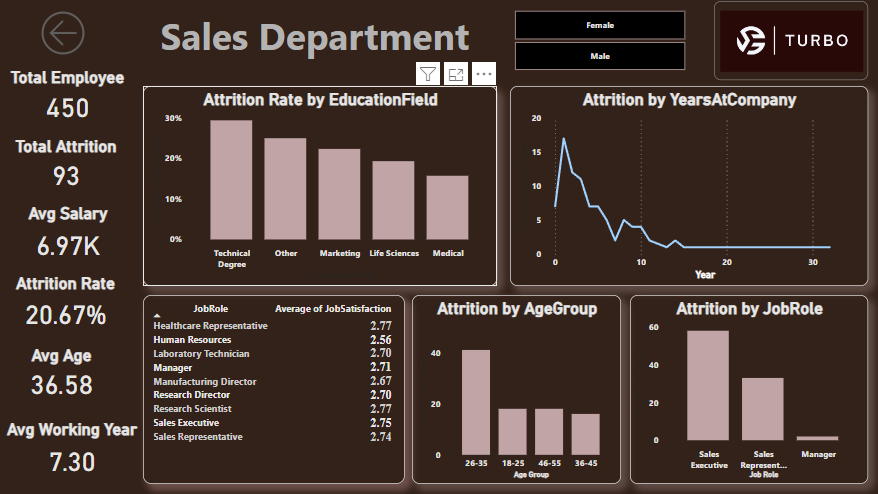

The dashboard page shown, as its layout file describes it:
{"tool":"powerbi","page":{"name":"Sales Department ","canvas":[1280,720],"ordinal":1},"visuals":[{"type":"image","box":[1033.9,7.2,221.8,113.8],"z":0},{"type":"card","title":"Avg Age","fields":{"Values":["HR_Analytics.Average Age Sales"]},"box":[13,504,162.7,77.8],"z":1000},{"type":"card","title":"Avg Salary","fields":{"Values":["HR_Analytics.Average Salary Sales"]},"box":[4.3,299.5,198.7,86.4],"z":2000},{"type":"card","title":"Attrition Rate","fields":{"Values":["HR_Analytics.Attrition Rate Sales"]},"box":[10.1,400.3,180,83.5],"z":3000},{"type":"card","title":"Avg Working Year","fields":{"Values":["HR_Analytics.Average Working Years Sales"]},"box":[7.2,610.6,204.5,86.4],"z":4000},{"type":"card","title":"Total Attrition","fields":{"Values":["HR_Analytics.Total Attrition Sales"]},"box":[7.2,203,187.2,77.8],"z":5000},{"type":"card","title":"Total Employee","fields":{"Values":["HR_Analytics.Total Employees Sales"]},"box":[4.3,103.7,197.3,80.6],"z":6000},{"type":"textbox","box":[211.7,14.4,509.8,99.4],"z":7000},{"type":"clusteredColumnChart","title":"Attrition Rate by EducationField","fields":{"Category":["HR_Analytics.EducationField"],"Y":["HR_Analytics.Attrition Rate Sales"]},"box":[211.7,129.6,509.8,288],"z":8000},{"type":"clusteredColumnChart","title":"Attrition by AgeGroup","fields":{"Category":["HR_Analytics.AgeGroup"],"Y":["HR_Analytics.Total Attrition Sales"]},"box":[599,430.6,301,272.2],"z":9000},{"type":"clusteredColumnChart","title":"Attrition by JobRole","fields":{"Category":["HR_Analytics.JobRole"],"Y":["HR_Analytics.Total Attrition Sales"]},"box":[913,430.6,342.7,272.2],"z":10000},{"type":"lineChart","title":"Attrition by YearsAtCompany","fields":{"Category":["HR_Analytics.YearsAtCompany"],"Y":["HR_Analytics.Total Attrition Sales"]},"box":[740.2,129.6,515.5,288],"z":11000},{"type":"pivotTable","fields":{"Rows":["HR_Analytics.JobRole"],"Values":["Avg(HR_Analytics.JobSatisfaction)"]},"box":[211.7,430.6,377.3,272.2],"z":12000},{"type":"slicer","fields":{"Values":["HR_Analytics.Gender"]},"box":[721.4,14.4,295.2,99.4],"z":13000},{"type":"actionButton","box":[57.6,14.4,90.7,77.8],"z":14000}]}

Visuals, with their boxes in screenshot pixels (x1, y1, x2, y2), scaled from the page's 1280x720 canvas onto the 878x494 screenshot:
image: [left=709, top=5, right=861, bottom=83]
"Avg Age" card: [left=9, top=346, right=121, bottom=399]
"Avg Salary" card: [left=3, top=205, right=139, bottom=265]
"Attrition Rate" card: [left=7, top=275, right=130, bottom=332]
"Avg Working Year" card: [left=5, top=419, right=145, bottom=478]
"Total Attrition" card: [left=5, top=139, right=133, bottom=193]
"Total Employee" card: [left=3, top=71, right=138, bottom=126]
textbox: [left=145, top=10, right=495, bottom=78]
"Attrition Rate by EducationField" clusteredColumnChart: [left=145, top=89, right=495, bottom=287]
"Attrition by AgeGroup" clusteredColumnChart: [left=411, top=295, right=617, bottom=482]
"Attrition by JobRole" clusteredColumnChart: [left=626, top=295, right=861, bottom=482]
"Attrition by YearsAtCompany" lineChart: [left=508, top=89, right=861, bottom=287]
pivotTable - HR_Analytics.JobRole x Avg(HR_Analytics.JobSatisfaction): [left=145, top=295, right=404, bottom=482]
slicer - HR_Analytics.Gender: [left=495, top=10, right=697, bottom=78]
actionButton: [left=40, top=10, right=102, bottom=63]
